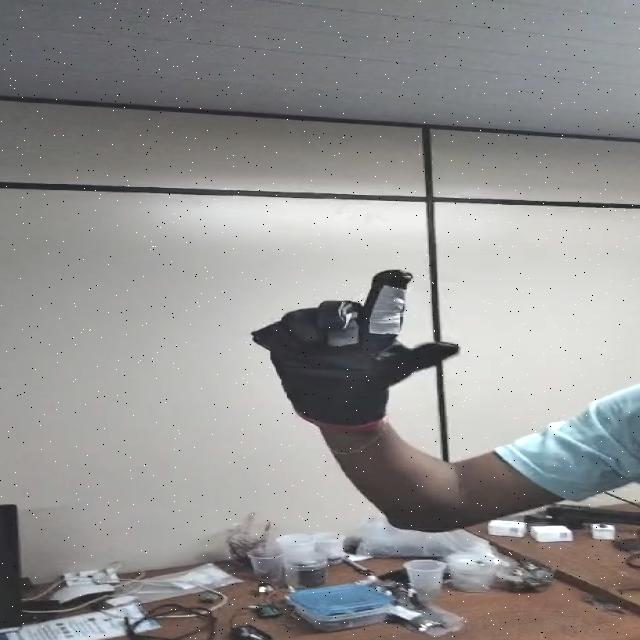Gloves: (255, 268, 459, 428)
